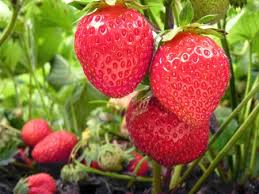ripe: (146, 28, 231, 125), (73, 4, 153, 98), (126, 82, 212, 168), (30, 128, 79, 164), (19, 116, 52, 146), (15, 171, 57, 193)
